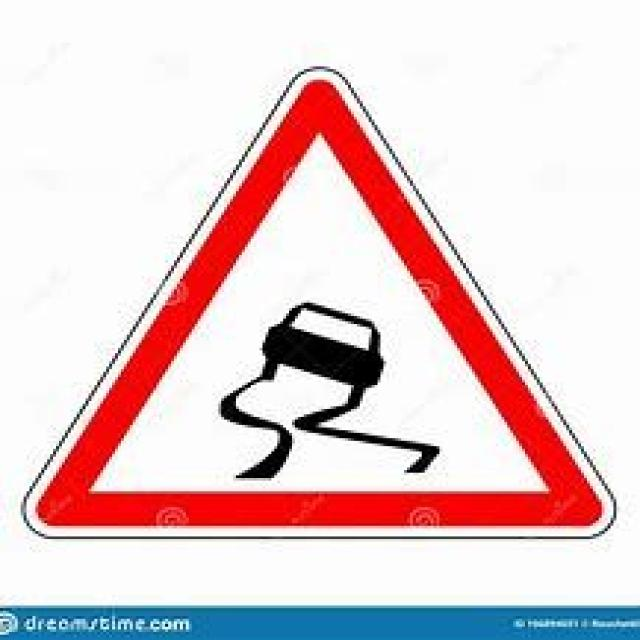SLIPPERY_ROAD: (21, 60, 620, 545)
